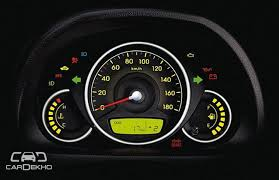Digital_Meter: (108, 118, 168, 135)
